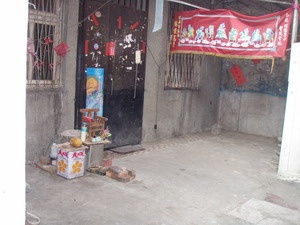bottle: (80, 121, 87, 142)
bucket: (56, 149, 86, 179)
